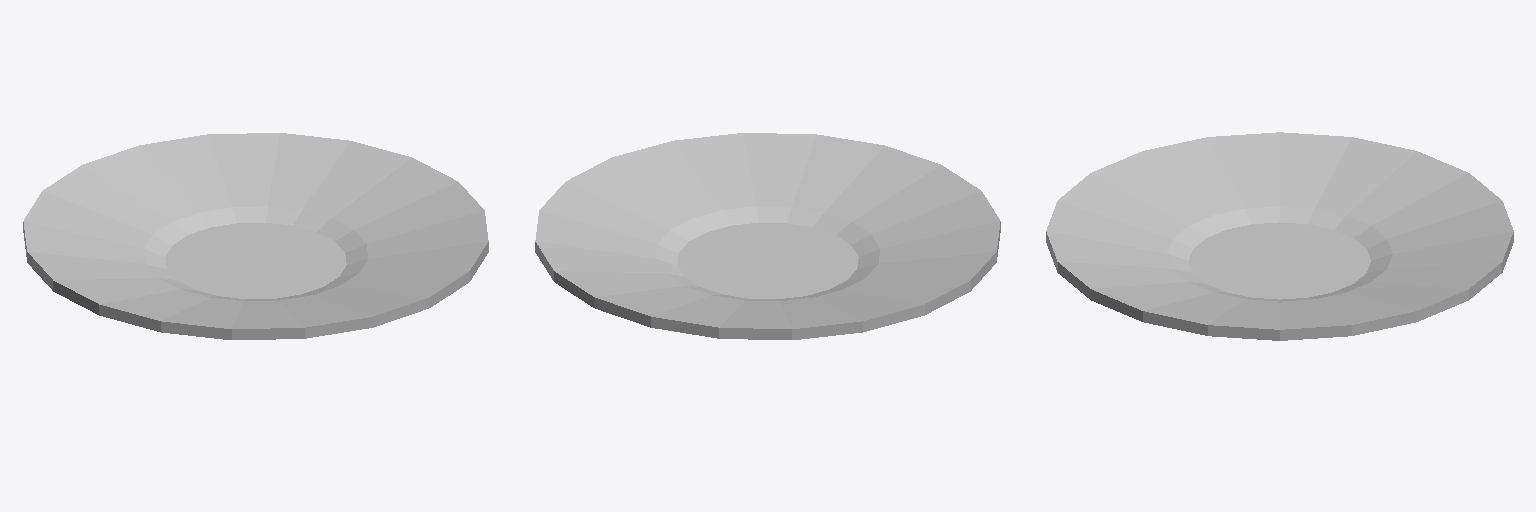
File: Plate.obj
3 renders of one model, left to right at view 1: azimuth 30°, elevation 25°; view 2: azimuth 150°, elevation 25°; view 3: azimuth 270°, elevation 25°, orthographic.
Parts seen in each view (by area): view 1: Plate; view 2: Plate; view 3: Plate.
Boxes of the visible parts, <box> form: Plate: <box>23,133,488,339</box>; Plate: <box>535,133,1000,339</box>; Plate: <box>1046,132,1513,340</box>.
Size of the model in its own units: 1.16 by 0.1363 by 1.16.